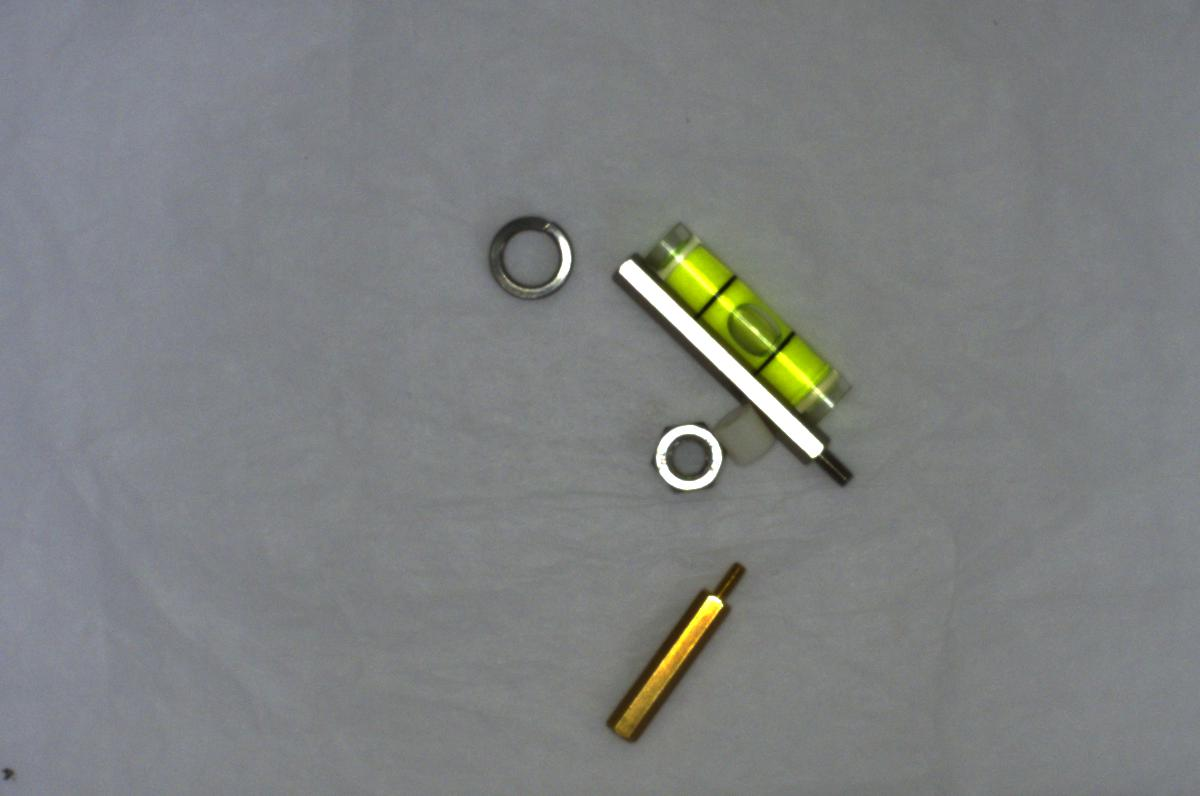Hexagon nut: (646, 410, 724, 490)
Hexagon pillar: (596, 545, 757, 742)
Hexagonal steel column: (612, 248, 857, 499)
Horizontal bubble: (638, 222, 857, 424)
Plastic cushion pillar: (710, 398, 782, 467)
Spring washer: (482, 206, 583, 300)
